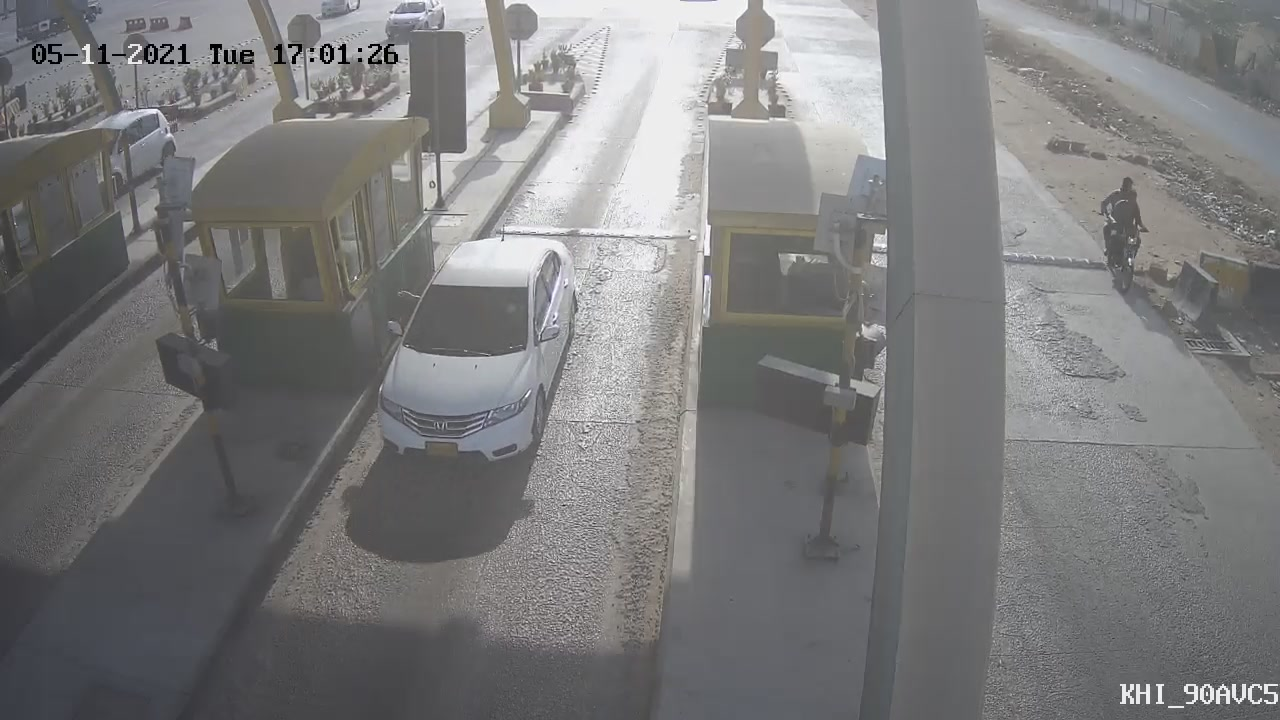F1: (342, 209, 603, 495)
